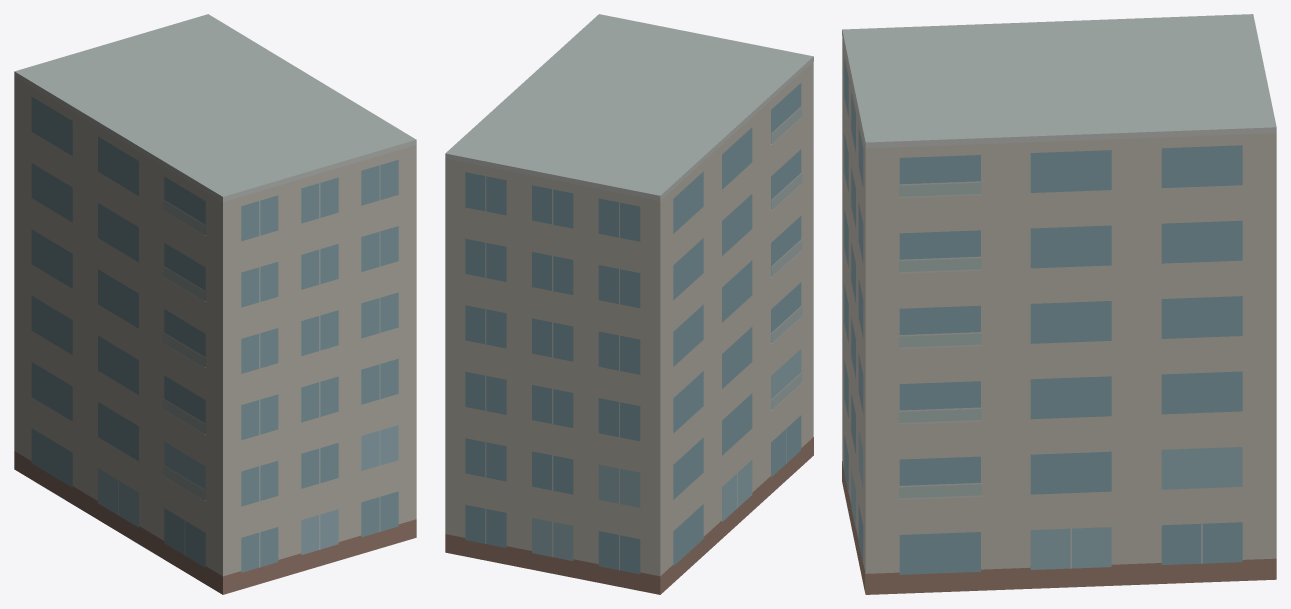
File: survey-upis-32563851.glb
3 views of the same model, side by side, from view 1: azimuth 30°, elevation 25°; view 2: azimuth 150°, elevation 25°; view 3: azimuth 270°, elevation 25° (orthographic). The views are drawn at different scales.
Parts seen in each view (by area): view 1: survey-upis-32563851.tmp; view 2: survey-upis-32563851.tmp; view 3: survey-upis-32563851.tmp.
Boxes of the visible parts, x1,y1,x2,y2 form: survey-upis-32563851.tmp: [14, 14, 416, 594]; survey-upis-32563851.tmp: [445, 14, 813, 594]; survey-upis-32563851.tmp: [842, 14, 1276, 594].
Bounding box in the file's own units: 11.52 × 18.9 × 16.46.
